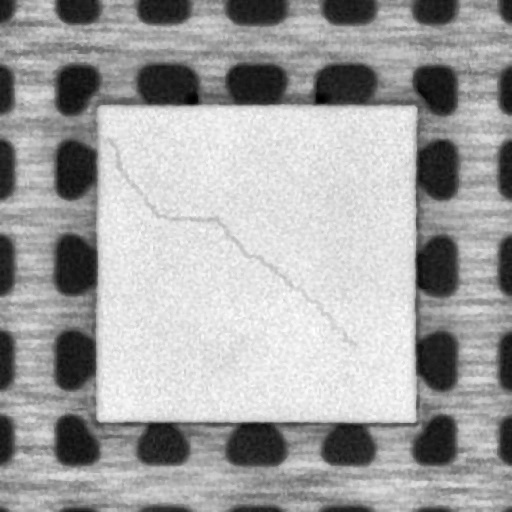DIE_CRACK: (108, 138, 355, 346)
